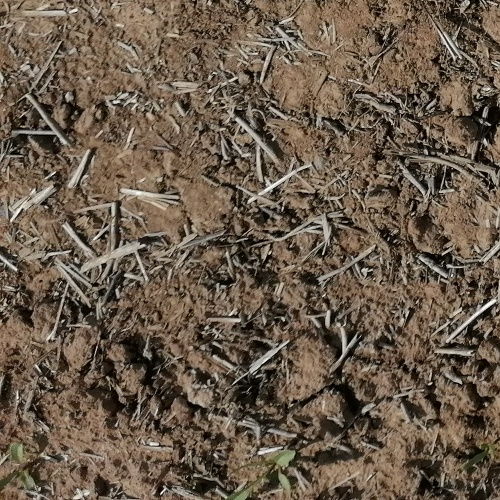beet: (231, 449, 297, 500), (0, 443, 38, 495)
